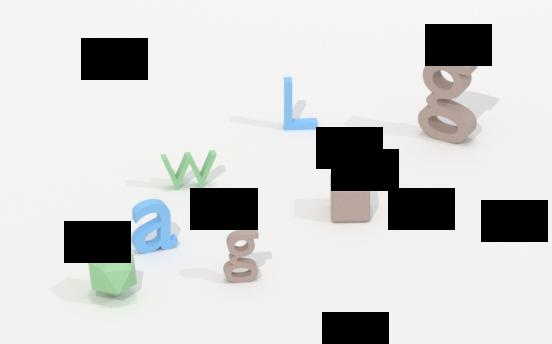a: (129, 196, 181, 257)
dagiac: (87, 244, 141, 299)
g: (416, 49, 483, 146), (221, 228, 263, 284)
hop: (329, 169, 375, 225)
l: (280, 72, 320, 136)
w: (159, 149, 220, 193)
